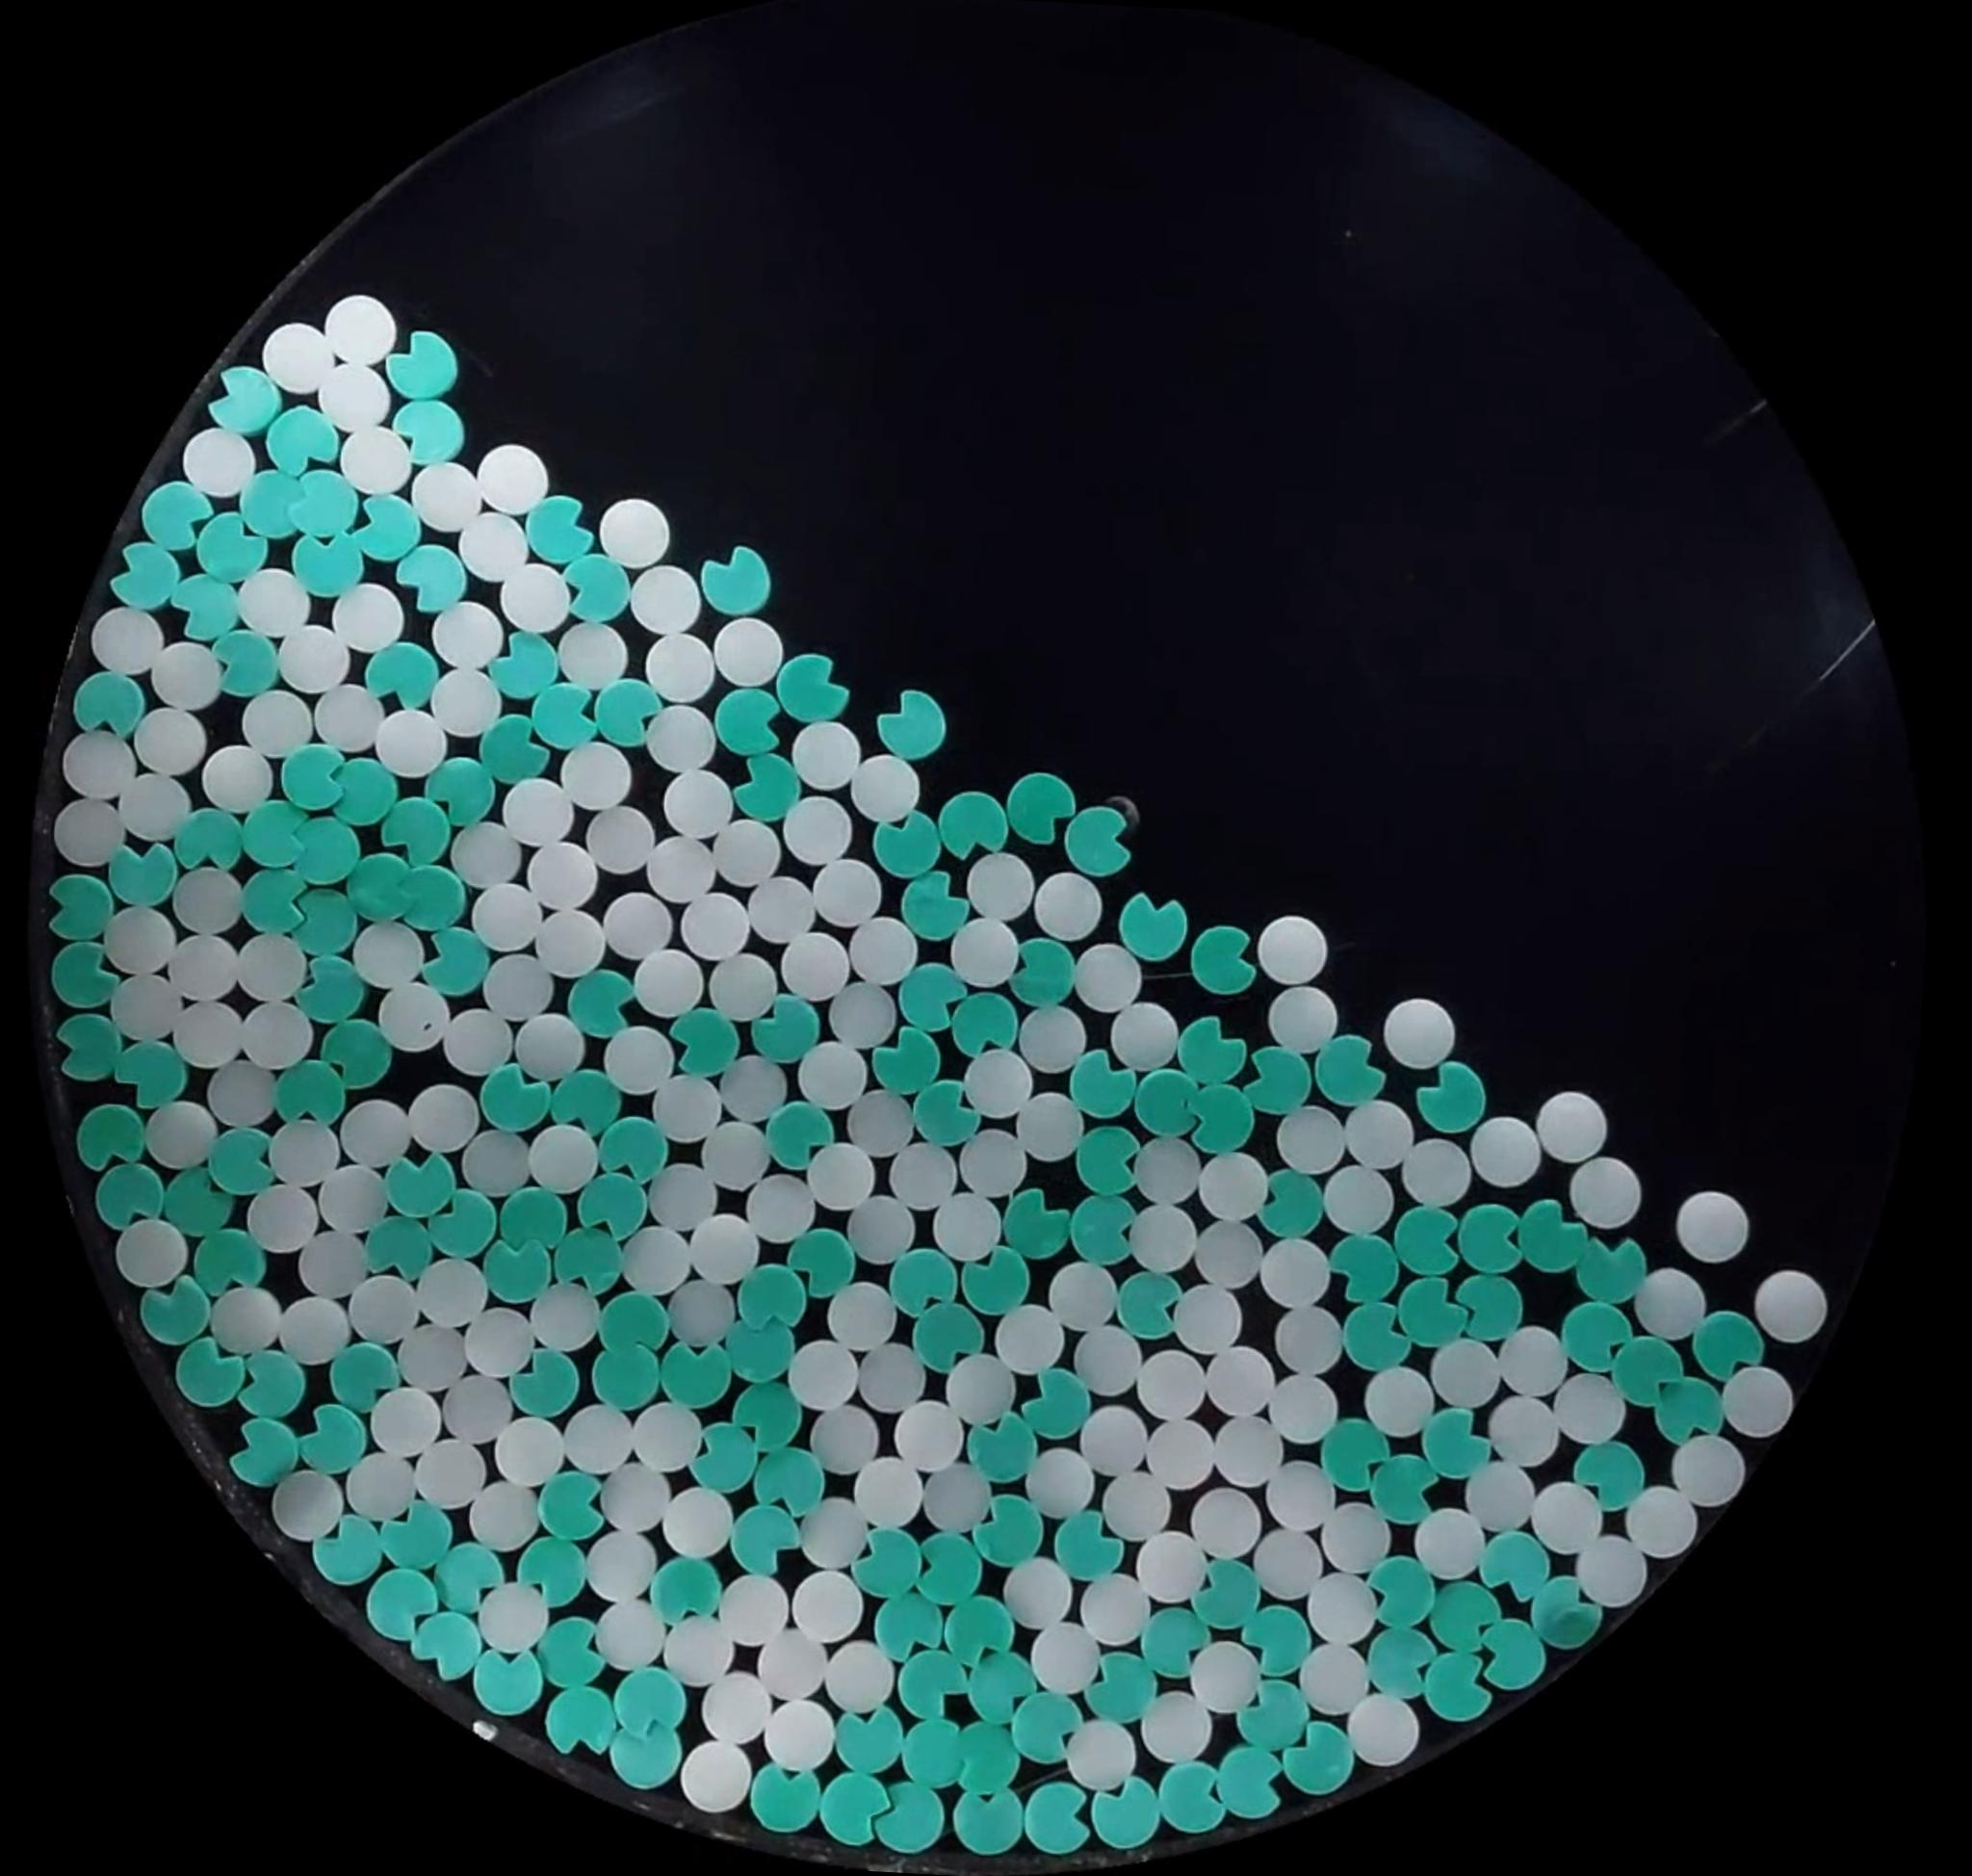disco-pmma: (1618, 1483, 1711, 1564), (143, 631, 229, 715), (1016, 1001, 1097, 1085), (1571, 1533, 1655, 1614), (1252, 1524, 1331, 1608), (1673, 1189, 1759, 1267), (822, 1633, 900, 1717), (1336, 1689, 1421, 1767), (882, 1138, 968, 1214), (1254, 1233, 1338, 1309), (171, 863, 250, 942), (849, 1444, 928, 1524), (754, 1624, 831, 1705), (1534, 1087, 1611, 1168), (1546, 1369, 1627, 1446), (842, 1089, 921, 1166), (581, 801, 662, 877), (109, 967, 185, 1048), (1192, 1212, 1268, 1293), (342, 1277, 423, 1353), (468, 1474, 544, 1555), (1028, 1612, 1104, 1693), (641, 831, 724, 905), (62, 729, 144, 803), (713, 817, 785, 902), (856, 1337, 933, 1414), (1000, 1554, 1078, 1631), (236, 565, 315, 641), (1097, 1466, 1176, 1541), (1495, 1323, 1571, 1402), (1629, 1267, 1708, 1342), (408, 456, 482, 537), (497, 558, 572, 636), (1196, 1148, 1271, 1226), (599, 1457, 674, 1534), (808, 1399, 884, 1476), (595, 1596, 671, 1673), (181, 425, 261, 499), (460, 1300, 533, 1379), (1141, 1688, 1215, 1767), (49, 798, 130, 870), (474, 433, 544, 516), (664, 768, 739, 844), (680, 891, 755, 967), (648, 1071, 724, 1147), (116, 1217, 192, 1293), (1169, 1288, 1245, 1363), (798, 1494, 873, 1569), (320, 292, 398, 366), (845, 750, 923, 824), (704, 948, 782, 1022), (231, 930, 308, 1004), (373, 981, 451, 1055), (143, 1097, 220, 1171), (960, 1127, 1034, 1205), (1079, 1406, 1157, 1480), (1137, 1525, 1211, 1603), (1483, 1395, 1560, 1469), (1461, 1460, 1539, 1534), (313, 1163, 393, 1235), (1299, 1571, 1379, 1643), (1062, 1719, 1141, 1791), (1257, 912, 1336, 985), (1018, 1087, 1088, 1168), (1750, 1268, 1831, 1339), (313, 678, 387, 754), (845, 1193, 921, 1267), (690, 1208, 764, 1284), (419, 1256, 493, 1332), (1071, 1323, 1144, 1399), (1257, 1459, 1333, 1533), (678, 1737, 754, 1811), (477, 1580, 551, 1656), (1402, 1133, 1475, 1208), (1669, 1437, 1745, 1511), (331, 581, 408, 654), (373, 708, 451, 780), (197, 742, 275, 814), (1106, 999, 1183, 1071), (967, 1046, 1039, 1124), (666, 1272, 738, 1349), (391, 1318, 463, 1395), (1379, 995, 1456, 1067), (627, 949, 708, 1018), (791, 1562, 859, 1643), (90, 604, 164, 678), (525, 1124, 599, 1198), (1571, 1154, 1645, 1228), (1322, 1161, 1396, 1235), (1722, 1365, 1796, 1439), (1410, 1508, 1484, 1582), (789, 719, 865, 791), (644, 703, 720, 775), (275, 624, 350, 696), (352, 920, 428, 992), (278, 1295, 354, 1367), (648, 1161, 724, 1233), (1132, 1134, 1204, 1210), (789, 1339, 861, 1414), (662, 1608, 734, 1684), (1470, 1115, 1542, 1191), (106, 905, 176, 983), (299, 1230, 377, 1300), (741, 1175, 819, 1245), (1129, 1194, 1199, 1272), (824, 1279, 901, 1349), (762, 1703, 840, 1774), (116, 775, 195, 844), (560, 740, 634, 812), (748, 874, 820, 948), (246, 1182, 320, 1254), (268, 1115, 342, 1187), (338, 1099, 412, 1171), (946, 918, 1019, 990), (372, 1385, 445, 1457), (893, 1397, 965, 1471), (1025, 1450, 1099, 1522), (345, 1451, 419, 1524), (1426, 1337, 1498, 1411), (1528, 1480, 1602, 1552), (525, 844, 600, 914), (944, 1353, 1019, 1423), (706, 1672, 776, 1747), (1192, 1640, 1262, 1716), (239, 694, 317, 763), (164, 935, 241, 1004), (456, 509, 528, 581), (433, 599, 505, 671), (202, 1060, 275, 1133), (495, 1414, 567, 1487), (664, 1485, 736, 1557), (416, 1436, 488, 1508), (599, 495, 669, 569), (470, 881, 544, 951), (784, 934, 854, 1008), (239, 999, 313, 1069), (798, 1043, 872, 1113), (622, 1231, 695, 1302), (586, 1529, 657, 1603), (916, 1457, 986, 1531), (345, 421, 412, 499), (261, 321, 333, 391), (630, 564, 703, 634), (644, 632, 717, 703), (442, 1006, 514, 1076), (486, 951, 556, 1023), (408, 1083, 479, 1156), (1035, 872, 1106, 944), (1076, 941, 1146, 1013), (931, 1189, 1004, 1259), (1264, 1369, 1335, 1441), (1049, 1263, 1122, 1333), (1343, 1097, 1414, 1170), (1275, 1106, 1347, 1177), (431, 669, 505, 738), (134, 708, 208, 777), (458, 1126, 532, 1194), (820, 981, 894, 1050), (173, 1001, 243, 1071), (514, 1011, 585, 1082), (967, 853, 1037, 923), (1148, 1418, 1218, 1488), (1083, 1575, 1153, 1645), (1266, 983, 1336, 1053), (1273, 1305, 1343, 1376), (1194, 1488, 1266, 1557), (530, 1281, 597, 1355), (553, 622, 629, 687), (569, 1399, 632, 1476), (785, 796, 856, 865), (849, 916, 917, 986), (606, 1025, 674, 1096), (1322, 1503, 1391, 1573), (504, 779, 576, 846), (813, 856, 880, 928), (440, 1374, 512, 1441), (634, 1402, 701, 1474), (271, 1471, 338, 1543), (1215, 1413, 1280, 1487), (713, 618, 782, 687), (326, 363, 393, 433), (718, 1053, 785, 1124), (1303, 1642, 1370, 1712), (208, 1288, 280, 1353), (454, 823, 523, 890), (703, 1120, 768, 1191), (1366, 1365, 1431, 1436), (537, 911, 604, 978), (1000, 1307, 1067, 1374), (1210, 1346, 1273, 1416), (724, 1573, 789, 1640), (607, 893, 671, 962), (1141, 1351, 1204, 1420), (813, 1147, 877, 1214)
